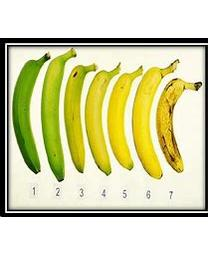banana: (132, 59, 175, 181), (41, 48, 76, 182), (12, 52, 50, 173), (155, 77, 201, 174), (87, 60, 121, 177), (65, 64, 98, 180), (108, 66, 141, 171)
